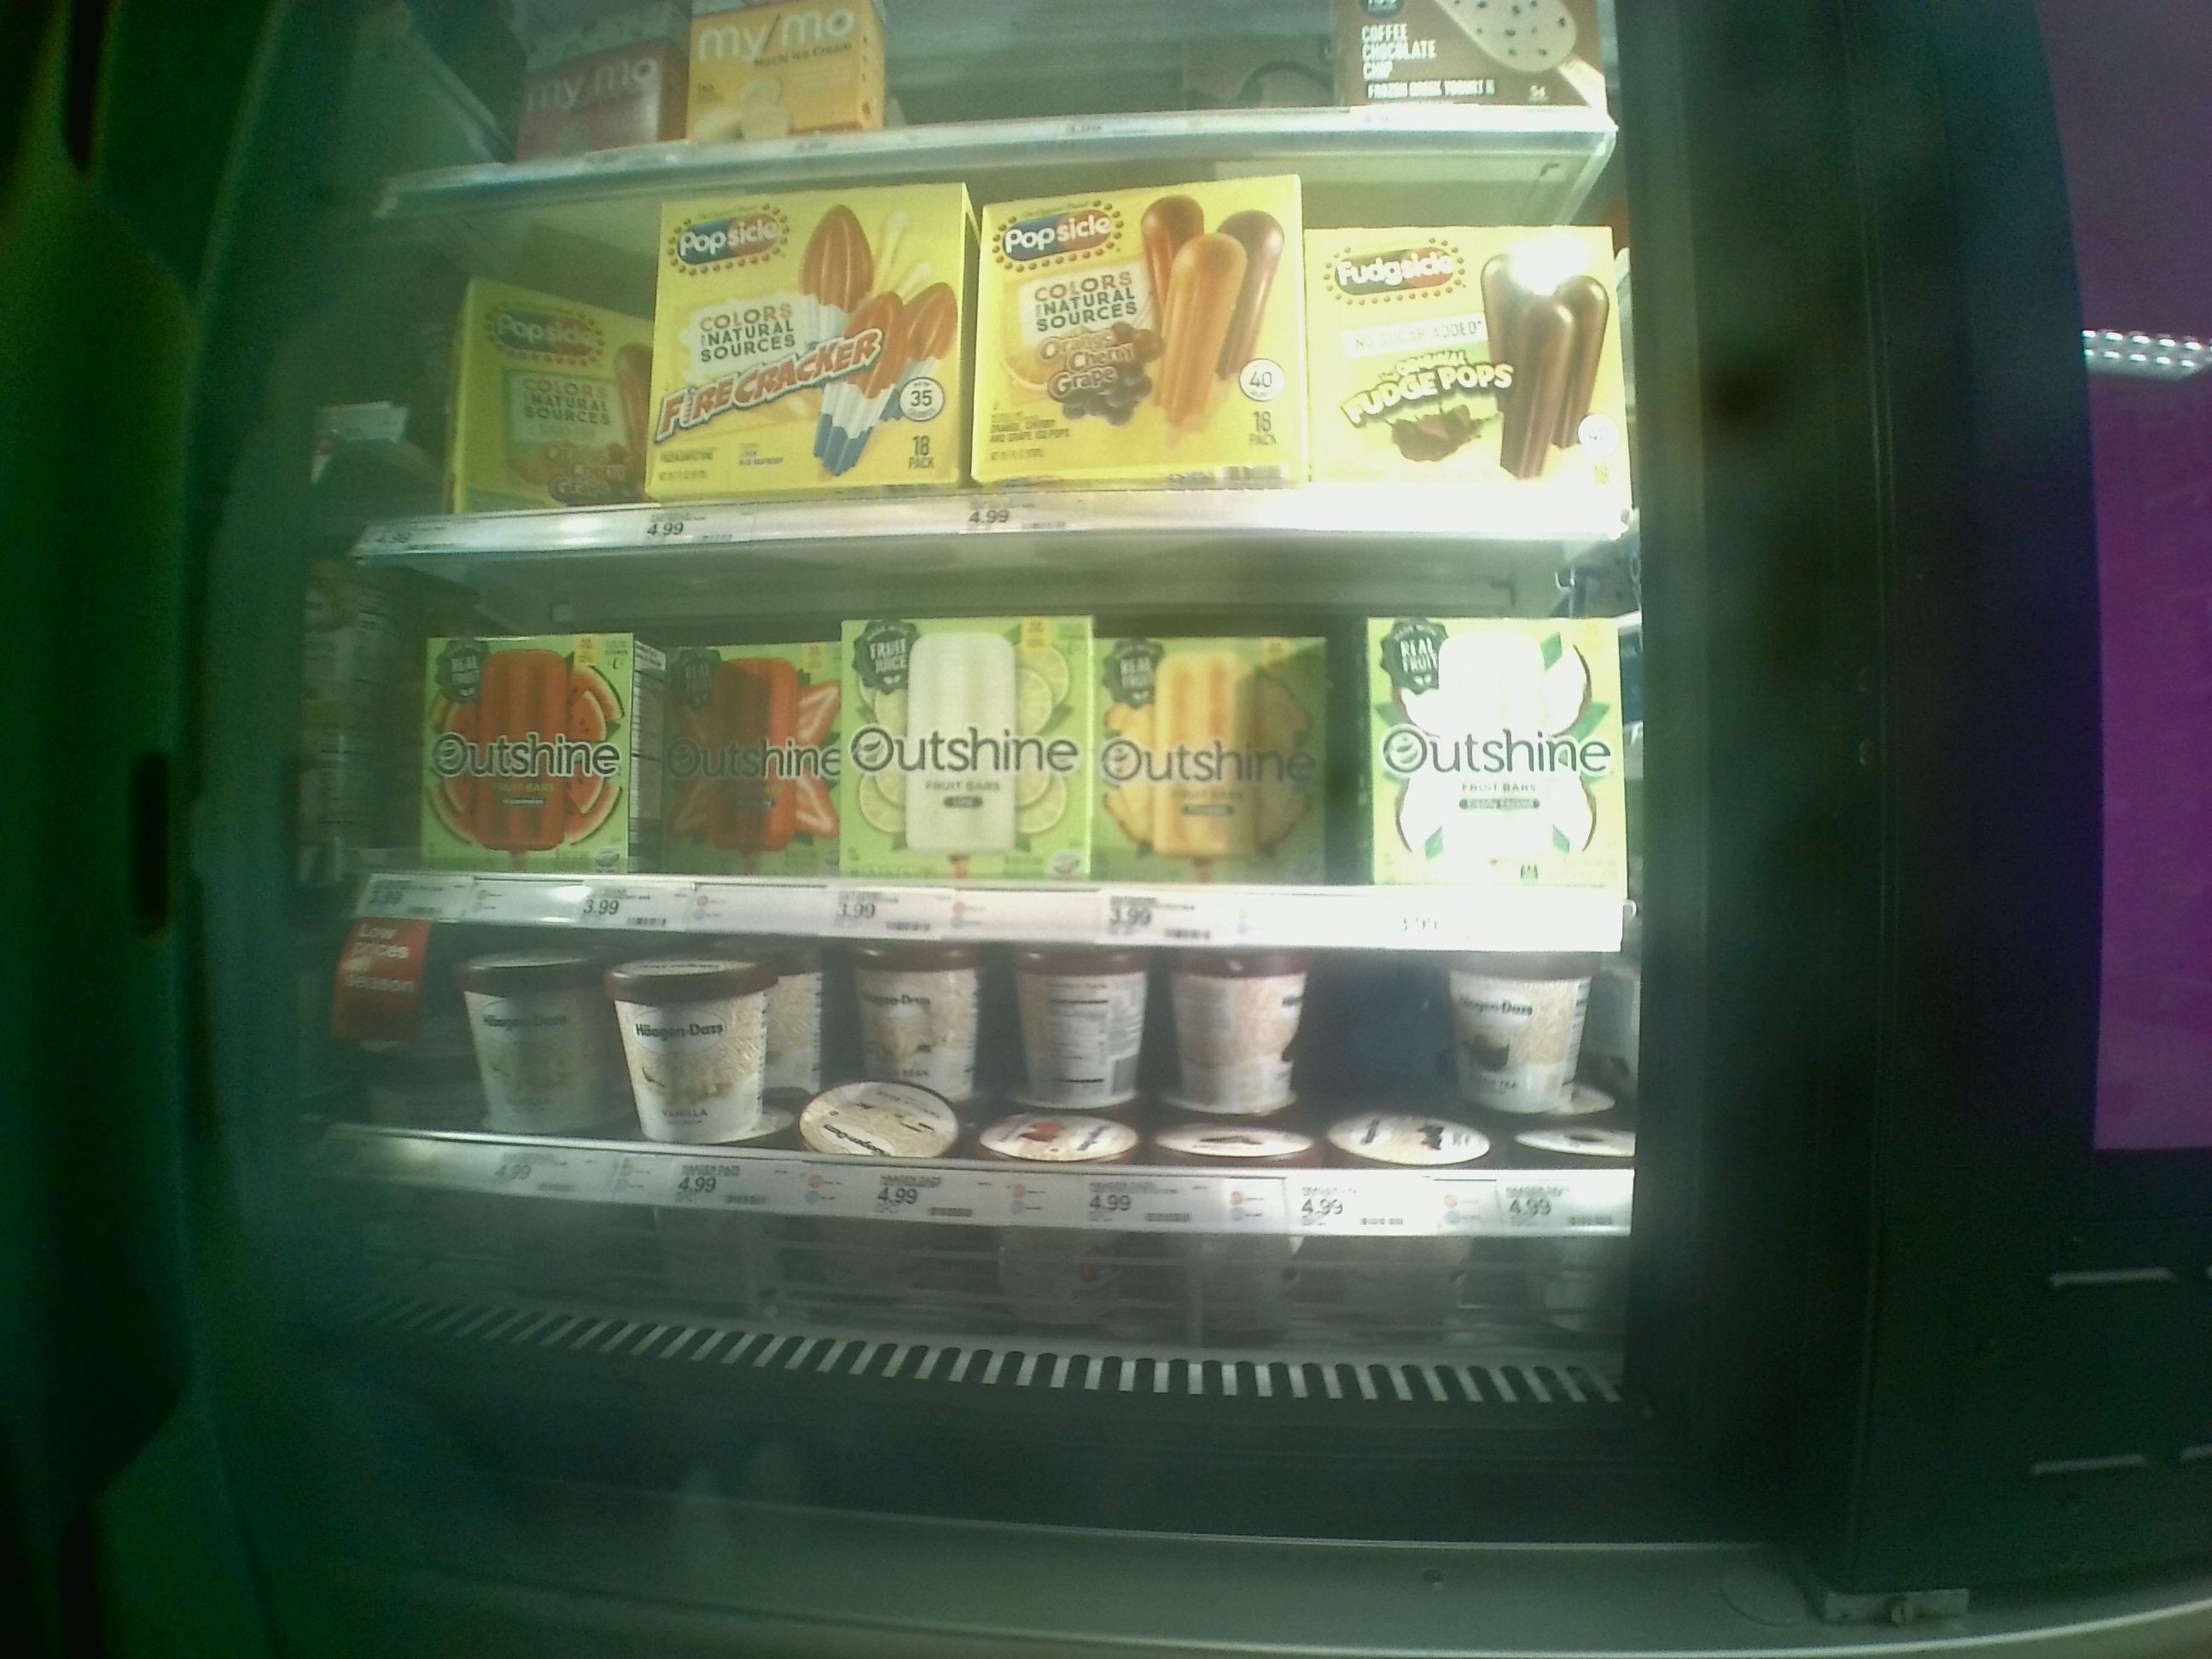shelf: (369, 547, 1656, 939), (373, 953, 1608, 1354), (352, 209, 1630, 544)
